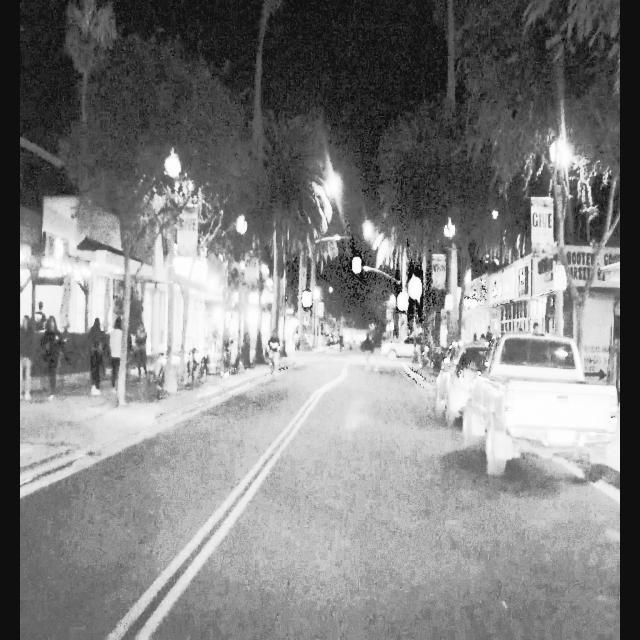Car: (464, 330, 622, 484), (430, 335, 495, 424)
Light: (302, 292, 311, 308), (352, 258, 361, 274), (411, 280, 420, 296), (399, 295, 407, 309)
Tree: (101, 21, 165, 409), (551, 5, 615, 381)
